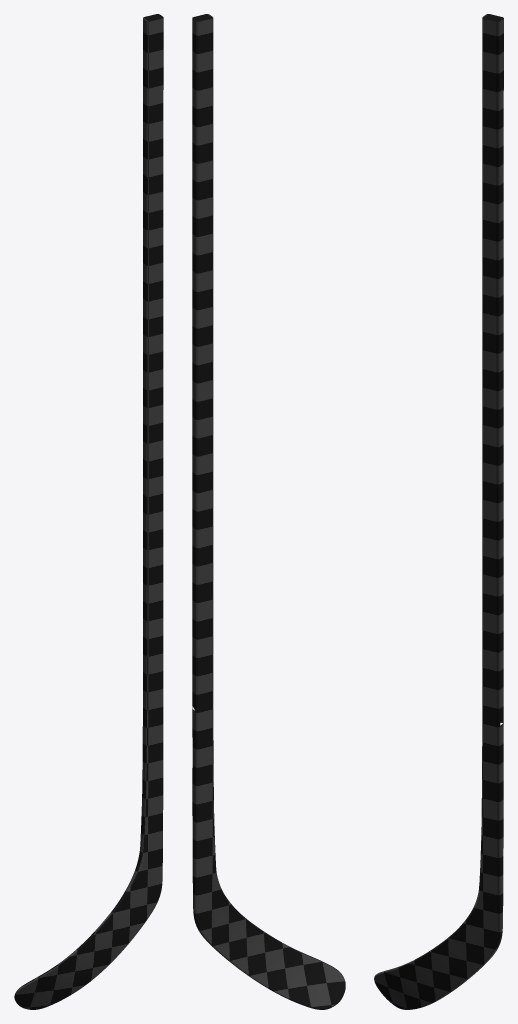
3 renders of one model, left to right at view 1: azimuth 30°, elevation 25°; view 2: azimuth 210°, elevation 25°; view 3: azimuth 330°, elevation 25°, orthographic. The views are drawn at different scales.
Parts seen in each view (by area): view 1: geometry_0; view 2: geometry_0; view 3: geometry_0.
Part boxes in pixels (x1,y1,x2,y2): geometry_0: (14,14,163,1009); geometry_0: (192,14,345,1009); geometry_0: (374,14,503,1009).
Size of the model in its own units: 237 by 1650 by 59.49.
Materials: 1 (1 with a texture image).
